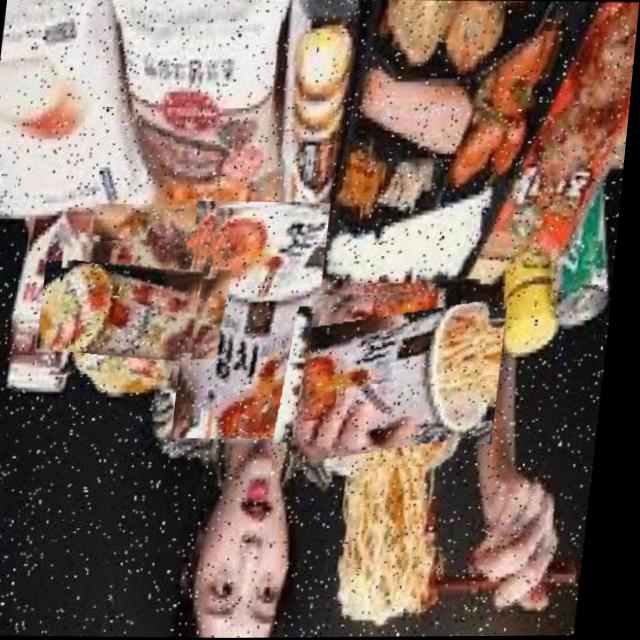Miscellaneous: (294, 280, 497, 468), (178, 200, 334, 440), (56, 234, 210, 378)
